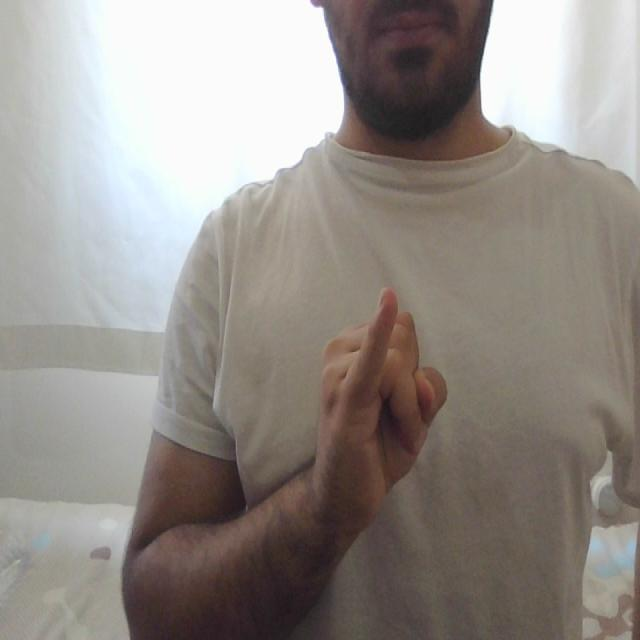kotu: (309, 284, 457, 478)
